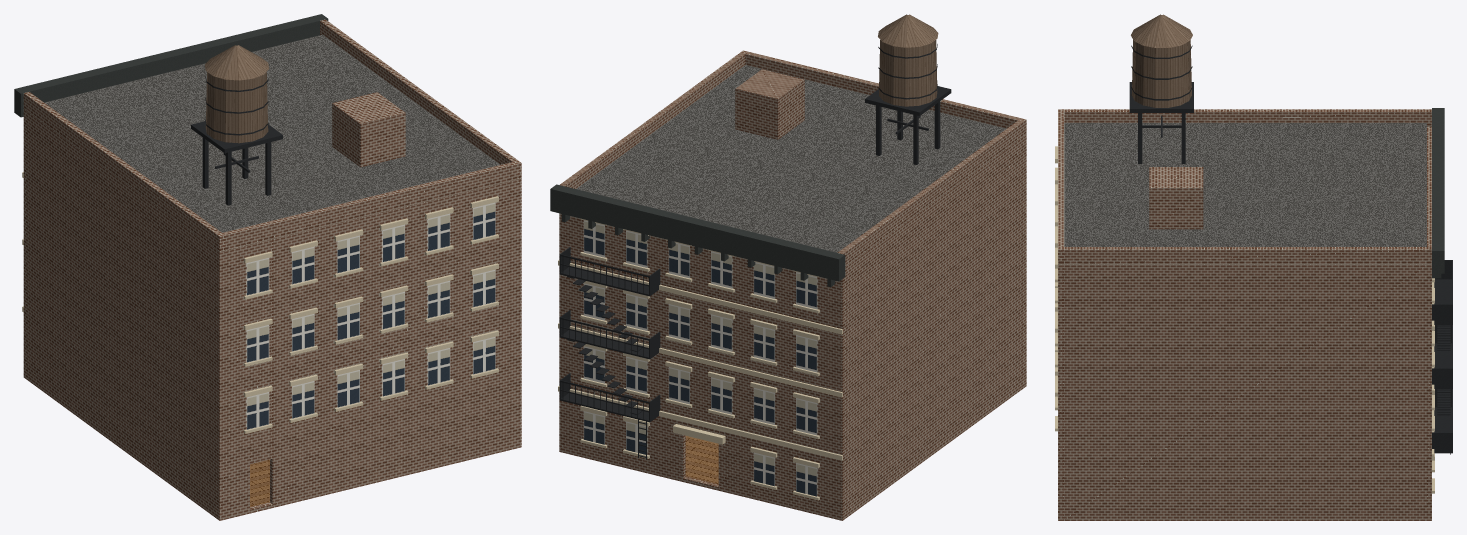
Rendered from walkup_brown.glb.
The picture shows the model from 3 angles, left to right: view 1: azimuth 30°, elevation 25°; view 2: azimuth 150°, elevation 25°; view 3: azimuth 270°, elevation 25°; orthographic projection. The views are drawn at different scales.
Visible parts, largest first — view 1: walkup_brown; view 2: walkup_brown; view 3: walkup_brown.
Boxes of the visible parts, bbox=[...] form: walkup_brown: bbox=[14, 14, 521, 520]; walkup_brown: bbox=[550, 14, 1026, 520]; walkup_brown: bbox=[1055, 14, 1452, 520].
Bounding box in the file's own units: 16.3 × 21.2 × 19.14.
10 materials, 10 textured.
